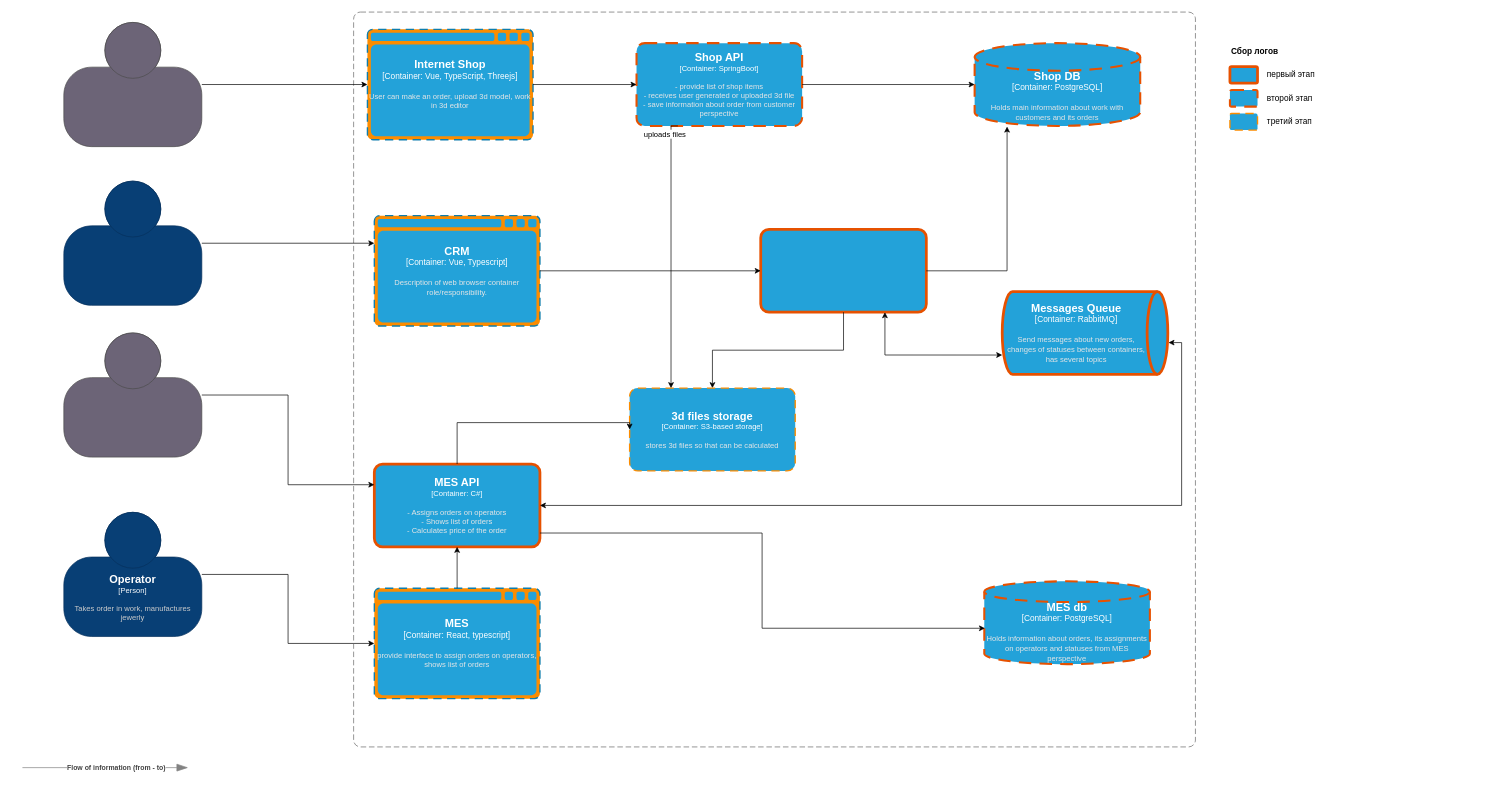
This 1490x791 diagram has some shape labels left out. The box of each missing label's shape, as (x1, y1, x2, y2) in pixels:
API user [Person] Description of external person.: (63, 332, 202, 457)
CRM API [Container: SpringBoot] Description of container role/responsibility.: (759, 228, 927, 313)
Customer [Person] Description of external person.: (63, 22, 202, 147)
Jewerly Store System [Software System]: (353, 11, 1195, 747)
Seller [Person] Operates with order, confirms manufacturing for the user: (63, 180, 202, 305)
